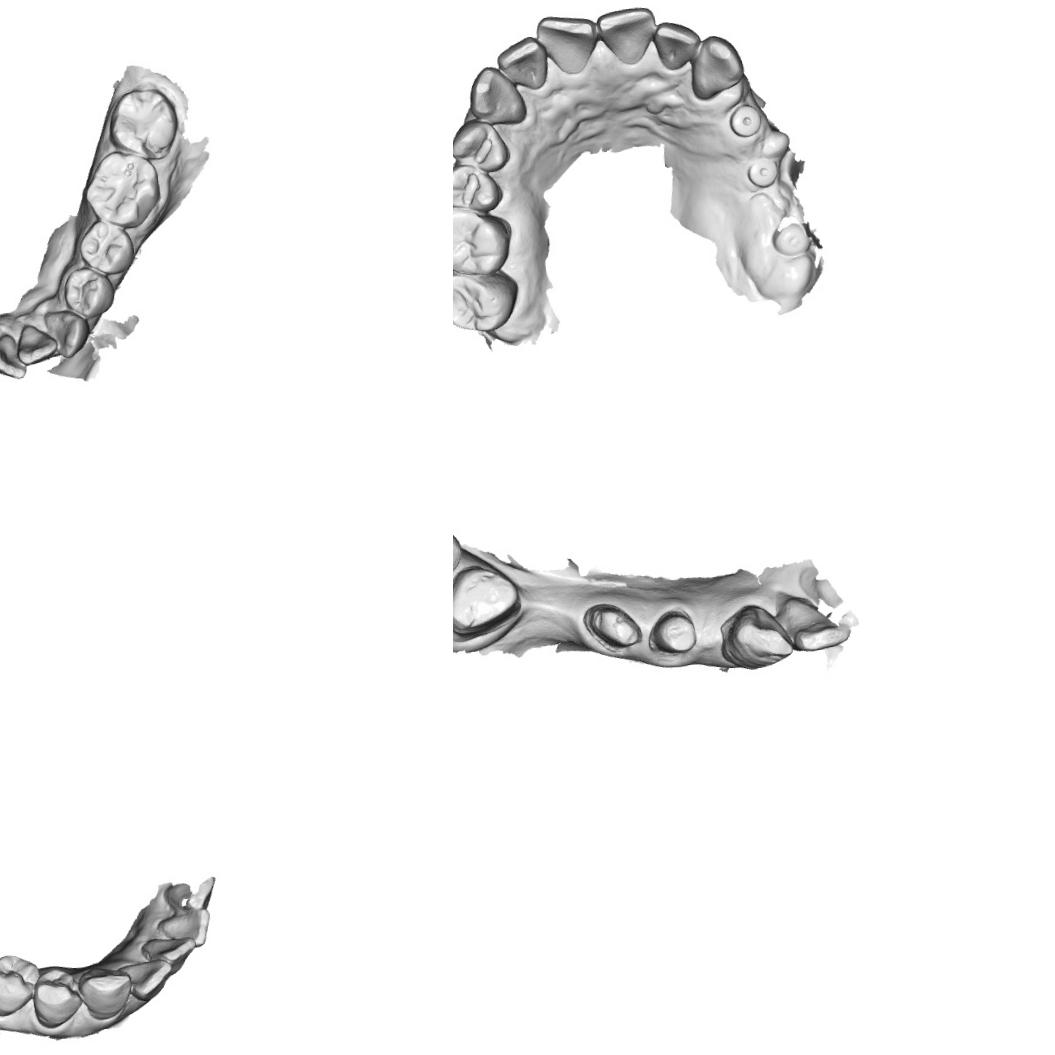canine: (716, 599, 794, 674), (686, 32, 747, 101), (465, 62, 527, 128), (76, 963, 134, 1022), (40, 306, 92, 360)
crown: (453, 559, 527, 644), (576, 596, 645, 657), (644, 603, 702, 664)
implant: (768, 210, 812, 258), (726, 100, 764, 139), (742, 152, 780, 190)
incisor: (777, 590, 851, 656), (534, 11, 601, 76), (594, 4, 657, 67), (494, 33, 550, 92), (652, 17, 702, 72), (138, 934, 196, 973), (12, 320, 60, 367), (164, 904, 214, 948), (127, 957, 174, 1001), (165, 873, 218, 911), (0, 330, 27, 382)
molar: (78, 146, 164, 233), (104, 83, 182, 164), (453, 263, 521, 335), (453, 200, 515, 278)
premolar: (75, 217, 136, 278), (29, 965, 86, 1029), (59, 263, 118, 322), (453, 115, 511, 174), (0, 950, 42, 1017), (453, 159, 504, 214)
